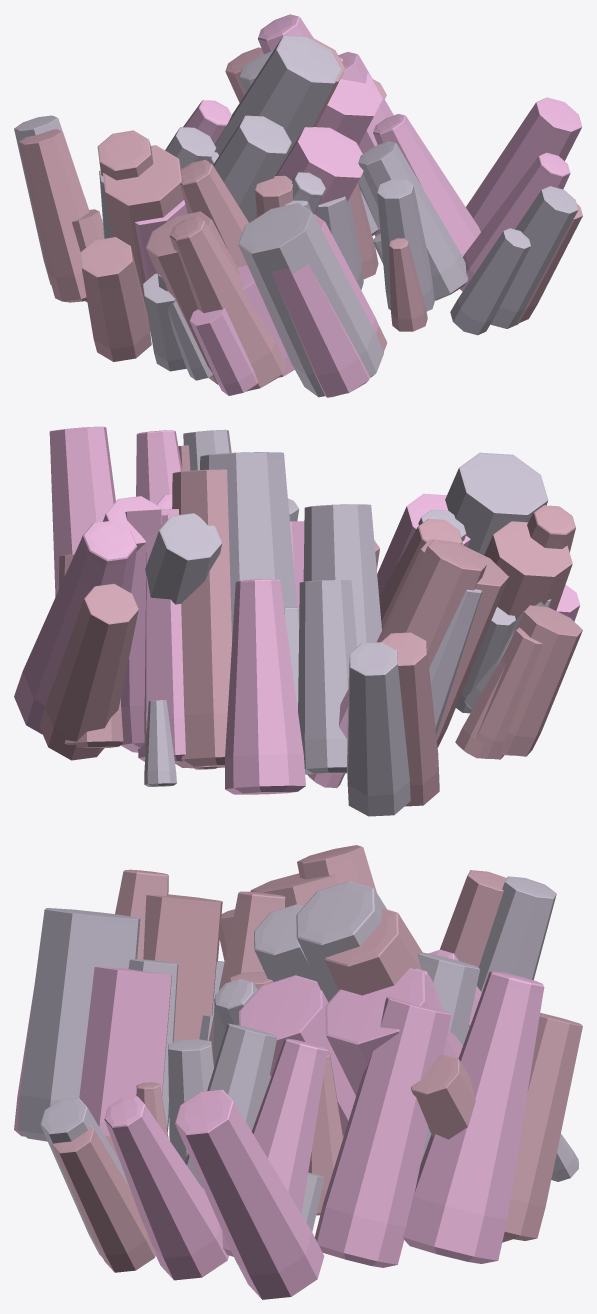
File: Obj_Mineral_1.fbx
The picture shows the model from 3 angles, top to bottom: view 1: azimuth 30°, elevation 25°; view 2: azimuth 150°, elevation 25°; view 3: azimuth 270°, elevation 25°; orthographic projection. The views are drawn at different scales.
Visible parts, largest first — view 1: Cluster_1; view 2: Cluster_1; view 3: Cluster_1.
Boxes of the visible parts, x1,y1,x2,y2 form: Cluster_1: (14,14,582,397); Cluster_1: (14,426,582,816); Cluster_1: (14,845,582,1299).
Size of the model in its own units: 935 by 467 by 775.
